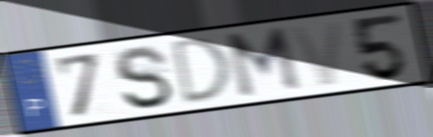5: (348, 10, 409, 82)
7: (53, 49, 105, 120)
D: (170, 35, 234, 108)
M: (222, 24, 305, 102)
S: (111, 44, 176, 112)
V: (287, 19, 346, 89)
